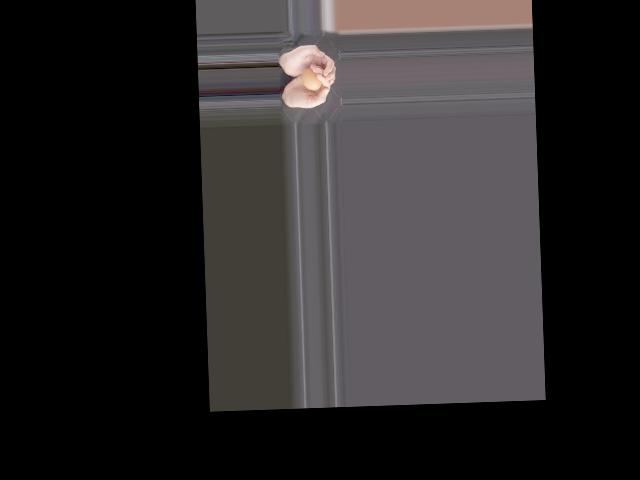egg: (300, 66, 321, 90)
